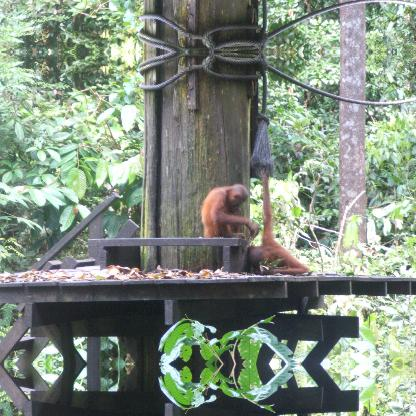Monkey: (200, 184, 258, 236)
